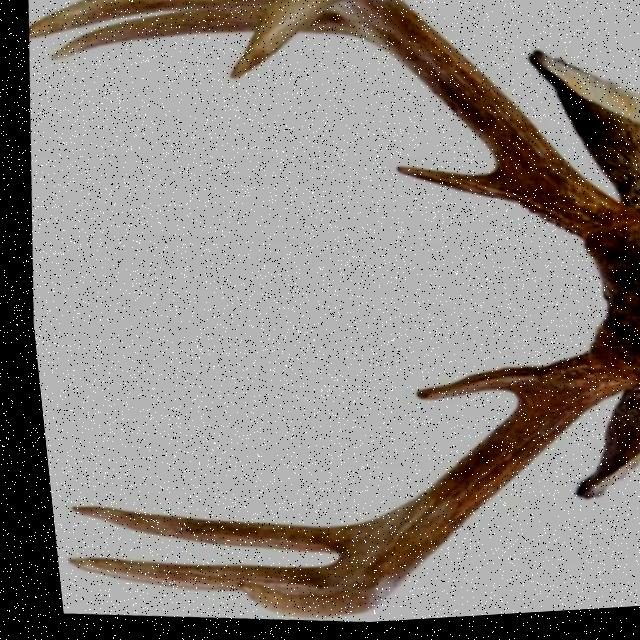L-F: (221, 357, 629, 622)
L-G1: (402, 372, 538, 408)
L-G2: (54, 505, 363, 559)
R-F: (226, 0, 640, 248)
R-G1: (390, 169, 514, 210)
